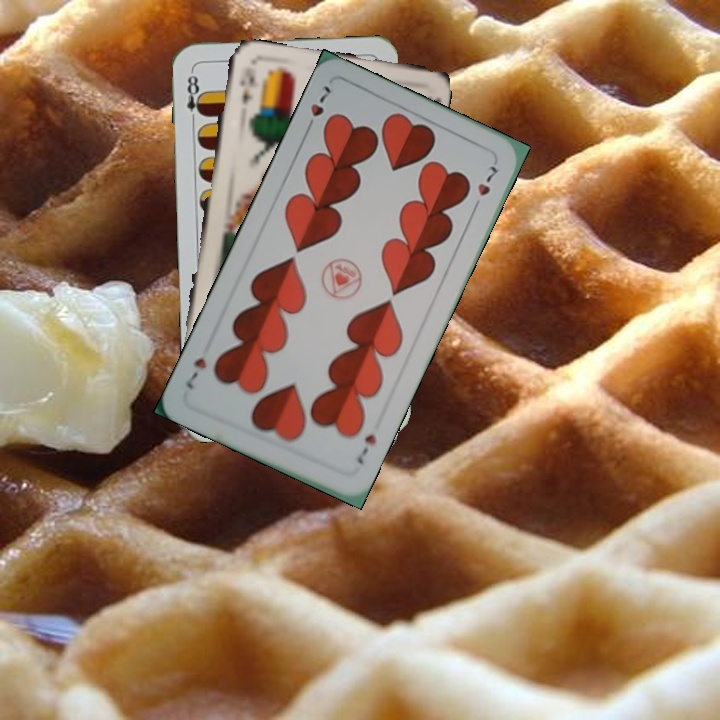E8: (183, 67, 206, 126)
EK: (235, 64, 258, 107)
H7: (301, 81, 334, 135), (352, 430, 379, 467)
